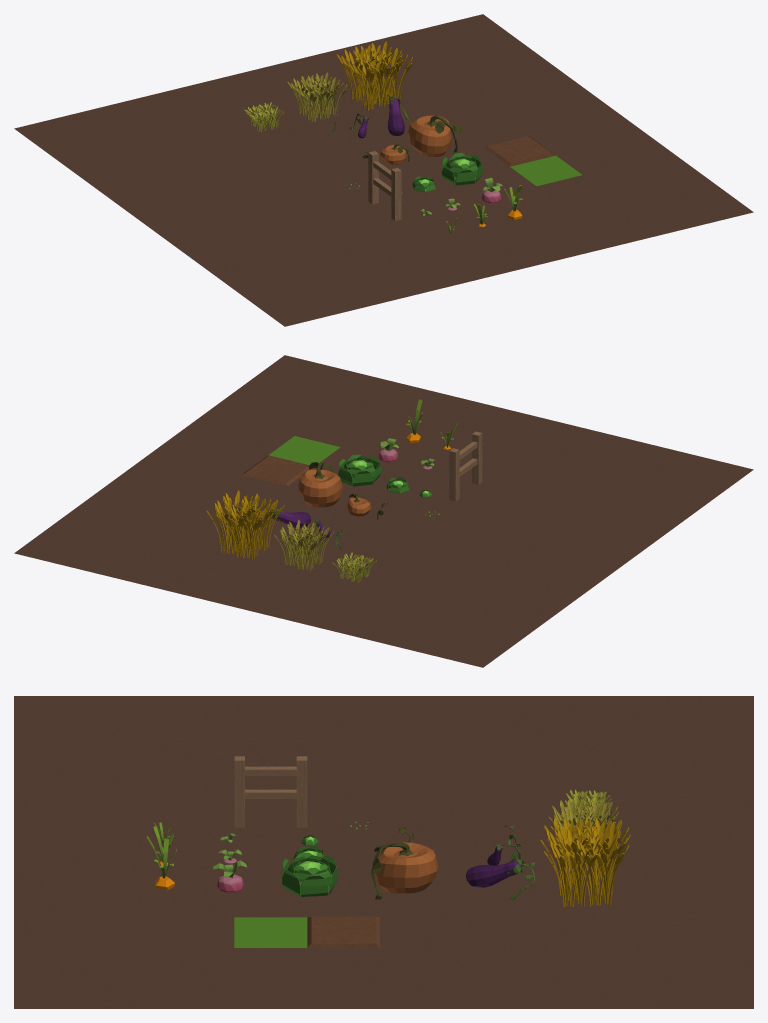
3 views of the same model, one above another, from view 1: azimuth 30°, elevation 25°; view 2: azimuth 150°, elevation 25°; view 3: azimuth 270°, elevation 25° (orthographic). The views are drawn at different scales.
Visible parts, largest first — view 1: Plane, wheat2, wheat1, pumpkin2, fence, tile1, tile0, salad2, wheat0, eggplant2; view 2: Plane, wheat2, wheat1, pumpkin2, fence, tile1, tile0, salad2, wheat0; view 3: Plane, wheat2, pumpkin2, fence, tile1, tile0, salad2, wheat1, eggplant2, beetroot2, carrot2, wheat0.
Boxes of the visible parts, box(x1,y1,x2,y2) form: Plane: box(14, 14, 753, 326); wheat2: box(336, 41, 412, 110); wheat1: box(287, 72, 346, 122); pumpkin2: box(408, 115, 462, 156); fence: box(368, 151, 401, 220); tile1: box(483, 136, 555, 166); tile0: box(510, 155, 582, 186); salad2: box(441, 152, 482, 185); wheat0: box(244, 102, 284, 132); eggplant2: box(387, 95, 408, 135); Plane: box(14, 355, 753, 667); wheat2: box(206, 490, 284, 559); wheat1: box(274, 519, 333, 570); pumpkin2: box(298, 461, 342, 507); fence: box(449, 431, 482, 501); tile1: box(242, 455, 309, 485); tile0: box(268, 436, 340, 465); salad2: box(338, 454, 381, 486); wheat0: box(332, 552, 376, 582); Plane: box(14, 696, 753, 1008); wheat2: box(540, 818, 630, 906); pumpkin2: box(371, 842, 438, 899); fence: box(234, 756, 307, 827); tile1: box(307, 916, 379, 947); tile0: box(234, 917, 307, 947); salad2: box(282, 853, 338, 896); wheat1: box(549, 800, 618, 863); eggplant2: box(466, 859, 534, 899); beetroot2: box(211, 860, 247, 892); carrot2: box(146, 835, 176, 890); wheat0: box(565, 789, 611, 827).
Size of the model in its own units: 20.32 by 3.86 by 20.32.
42 materials, 42 textured.
